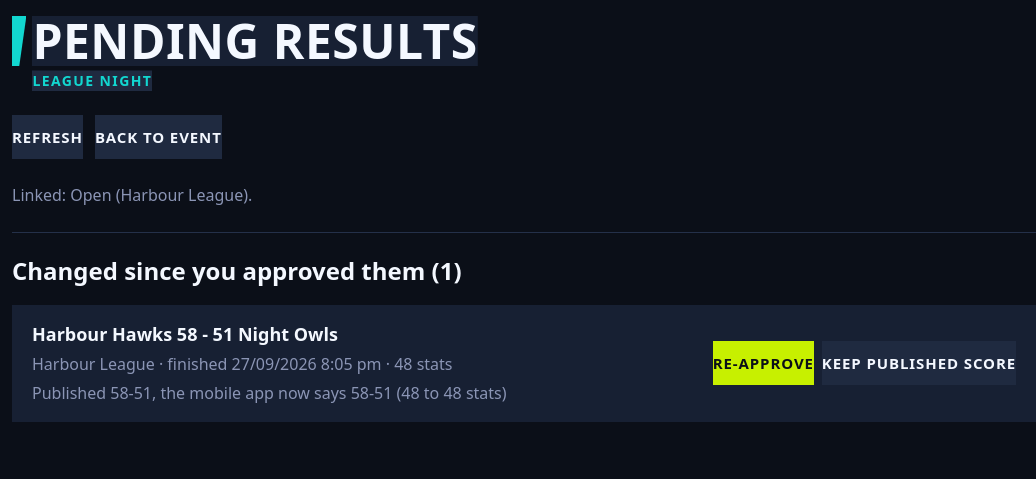
Scenario: Results inbox actions (M-06) › re-approves or keeps the published score of a changed result
Click the button with aria-label "Re-approve Harbour Hawks 58 - 51 Night Owls".
click(763, 364)  # box [713,342,814,386]
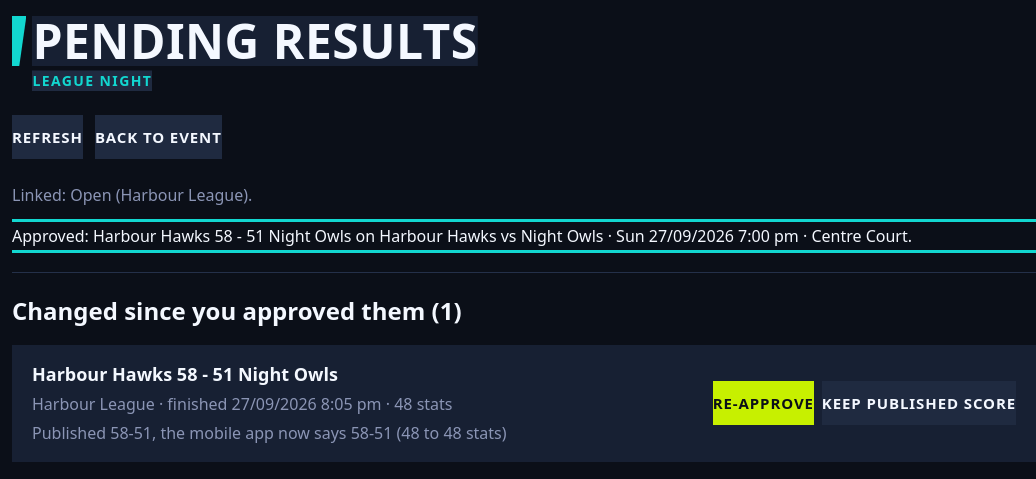
Click the button with aria-label "Keep published score for Harbour Hawks 58 - 51 Night Owls".
click(919, 404)  # box [822,382,1016,426]
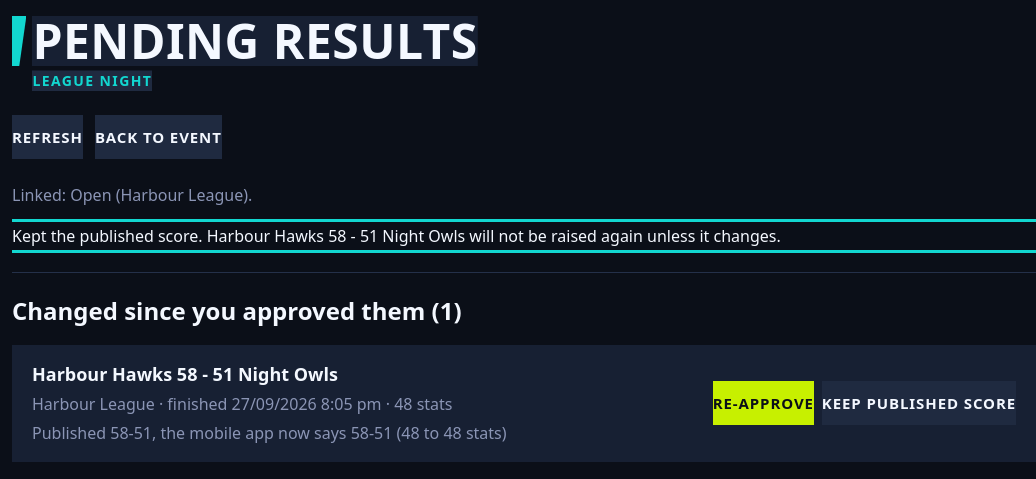
Now the text "Kept the published score." is shown, box [12,225,781,247]
